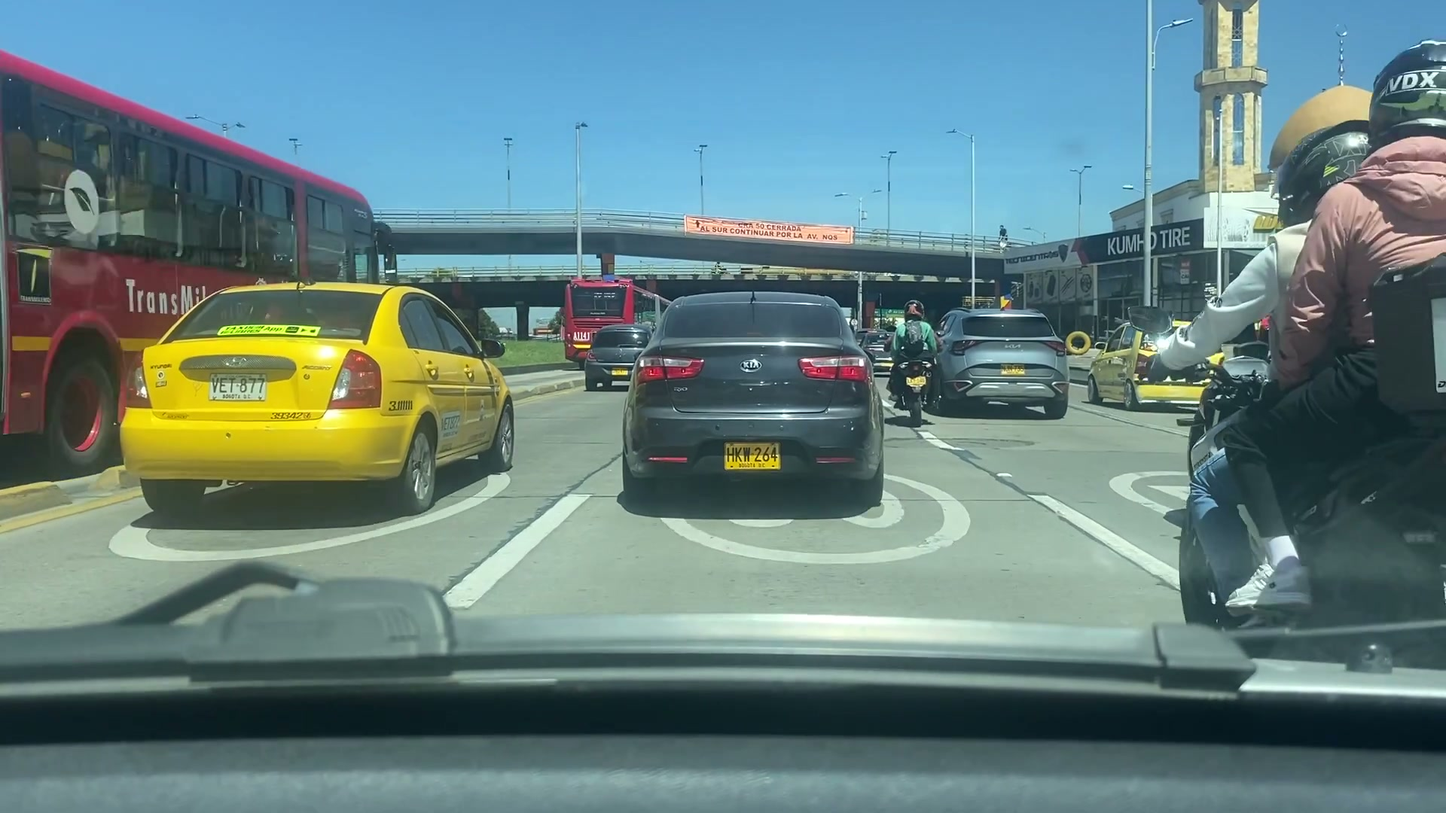bus: (2, 48, 397, 494), (565, 273, 674, 370)
car: (121, 277, 518, 512), (621, 290, 885, 501), (923, 309, 1072, 422), (1089, 317, 1233, 404), (584, 325, 652, 389), (861, 326, 902, 373)
motorcycle: (1120, 304, 1446, 672), (889, 357, 934, 430)
person: (1225, 38, 1446, 613), (1162, 115, 1373, 619), (889, 298, 940, 411)
